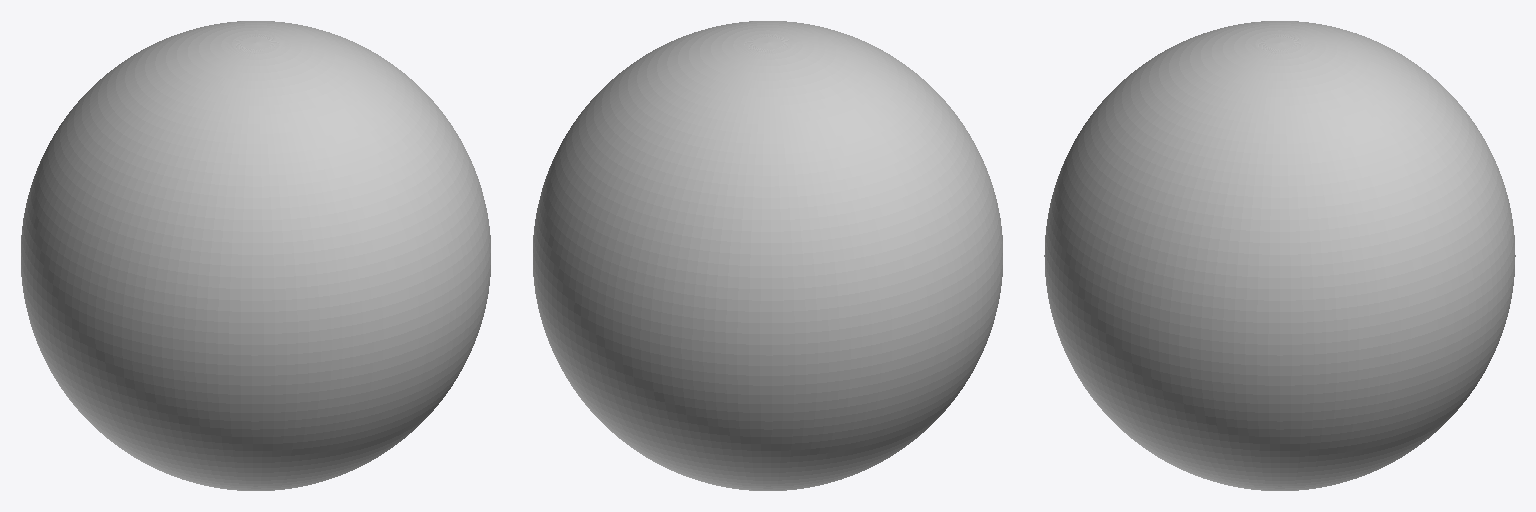
File: player.obj
3 renders of one model, left to right at view 1: azimuth 30°, elevation 25°; view 2: azimuth 150°, elevation 25°; view 3: azimuth 270°, elevation 25°, orthographic.
Parts seen in each view (by area): view 1: Sphere_Sphere.001; view 2: Sphere_Sphere.001; view 3: Sphere_Sphere.001.
Part boxes in pixels (x1,y1,x2,y2): Sphere_Sphere.001: (21, 21, 490, 490); Sphere_Sphere.001: (533, 21, 1002, 490); Sphere_Sphere.001: (1044, 21, 1515, 490).
Size of the model in its own units: 2.44 by 2.44 by 2.44.